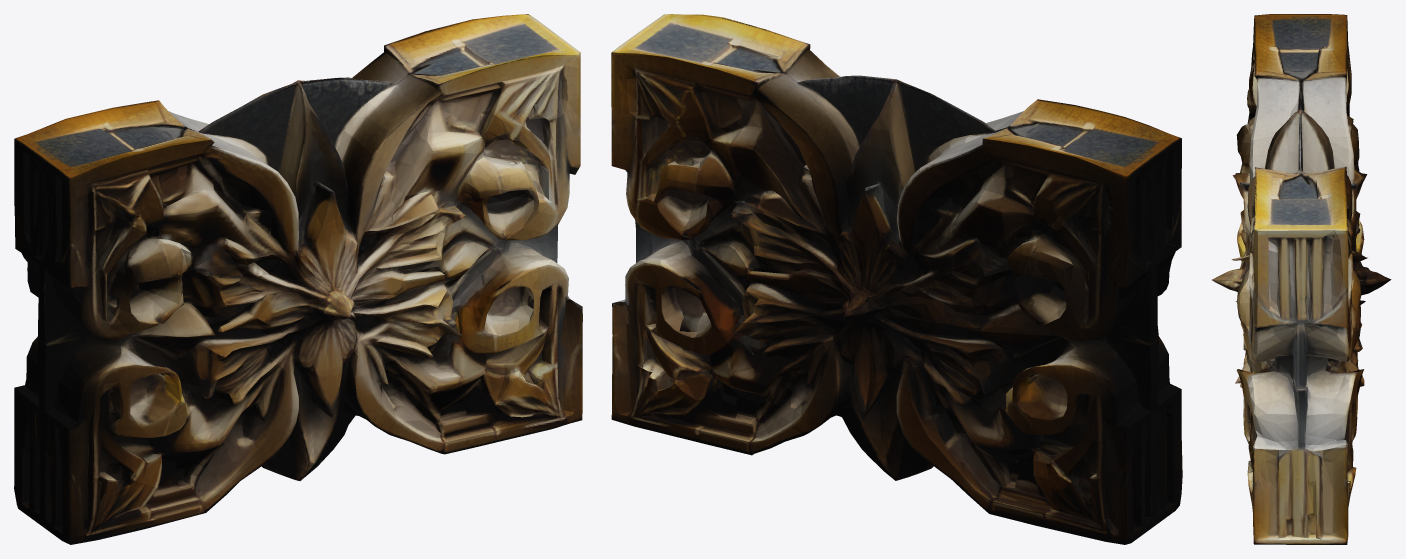
Rendered from stone-carved-puzzle-art-deco.jpeg.glb.
The picture shows the model from 3 angles, left to right: view 1: azimuth 30°, elevation 25°; view 2: azimuth 150°, elevation 25°; view 3: azimuth 270°, elevation 25°; orthographic projection. The views are drawn at different scales.
Visible parts, largest first — view 1: world; view 2: world; view 3: world.
Boxes of the visible parts, box(x1,y1,x2,y2) form: world: box(14, 14, 582, 544); world: box(611, 14, 1182, 544); world: box(1212, 14, 1391, 544).
Size of the model in its own units: 1 by 0.7443 by 0.354.
Materials: 1 (1 with a texture image).
